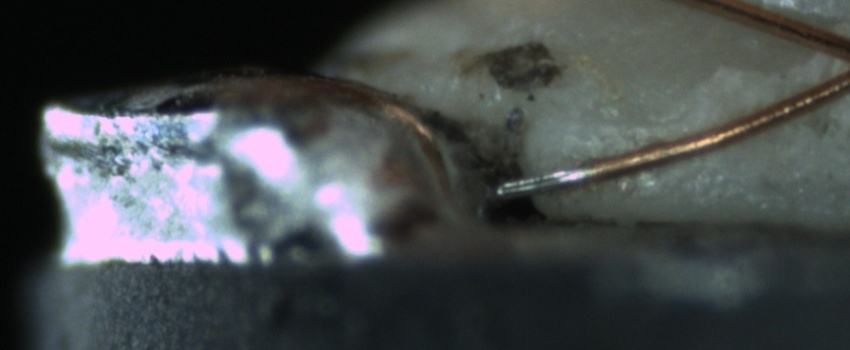DL: (566, 98, 692, 149)
TS: (490, 163, 578, 196)
